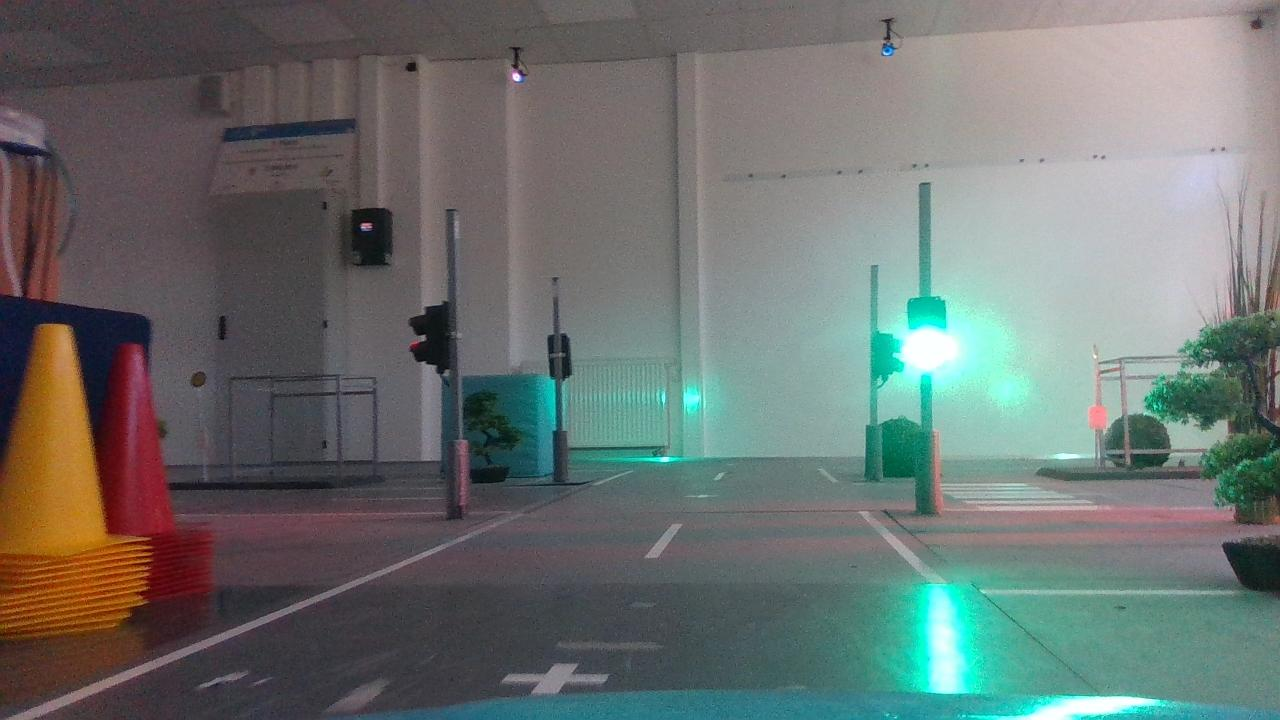traffic_light_green: (891, 285, 965, 381)
